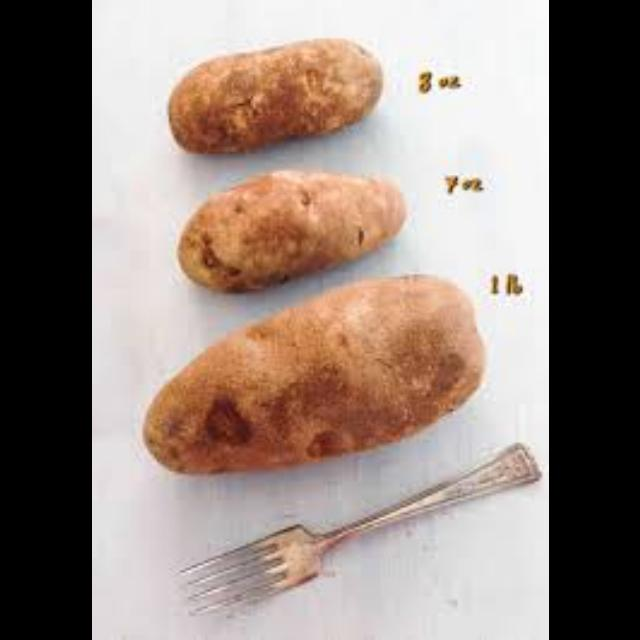Damaged potato: (98, 288, 490, 486), (162, 170, 416, 290), (154, 39, 404, 159)
